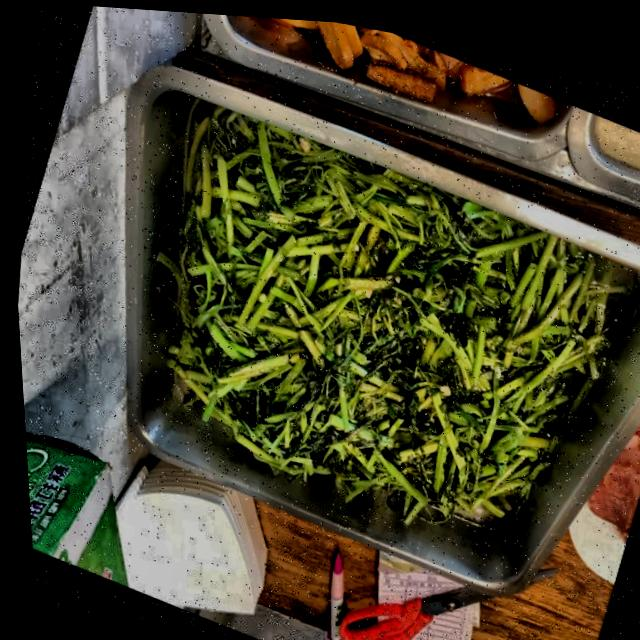Food: (145, 114, 601, 533)
